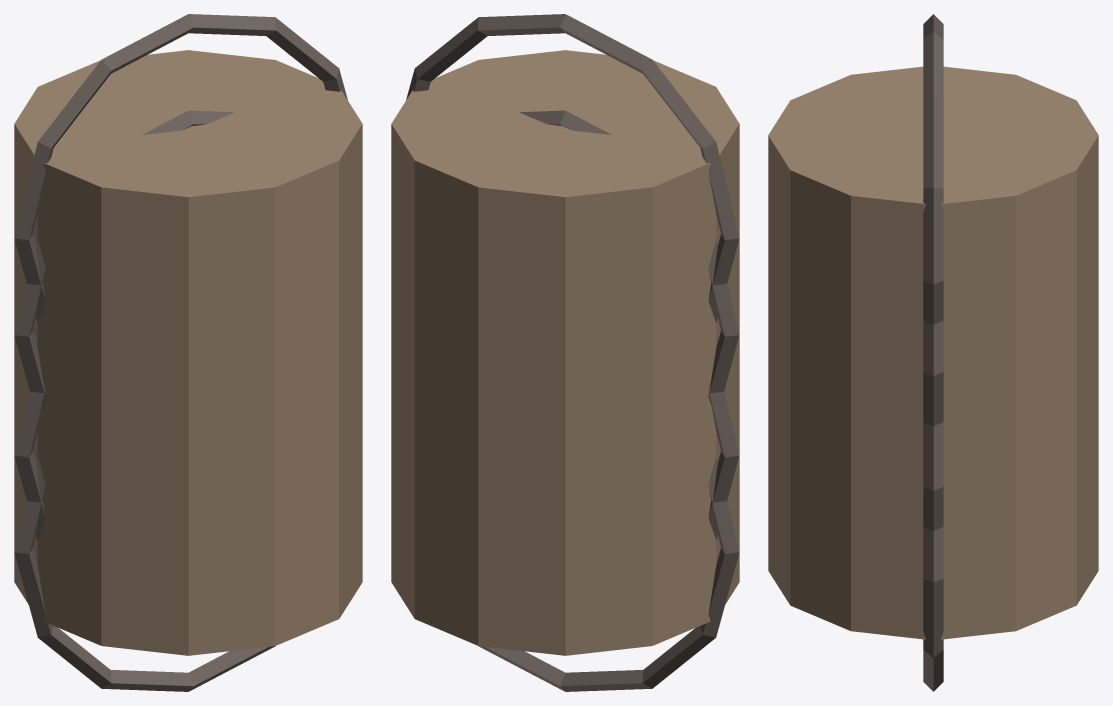
The model's file is barrel.glb.
3 views of the same model, side by side, from view 1: azimuth 30°, elevation 25°; view 2: azimuth 150°, elevation 25°; view 3: azimuth 270°, elevation 25° (orthographic). The views are drawn at different scales.
Parts seen in each view (by area): view 1: geometry_0; view 2: geometry_0; view 3: geometry_0.
Boxes of the visible parts, x1,y1,x2,y2 form: geometry_0: (14, 14, 362, 691); geometry_0: (391, 14, 739, 691); geometry_0: (768, 14, 1098, 691).
Size of the model in its own units: 0.7544 by 1.4 by 0.6536.
